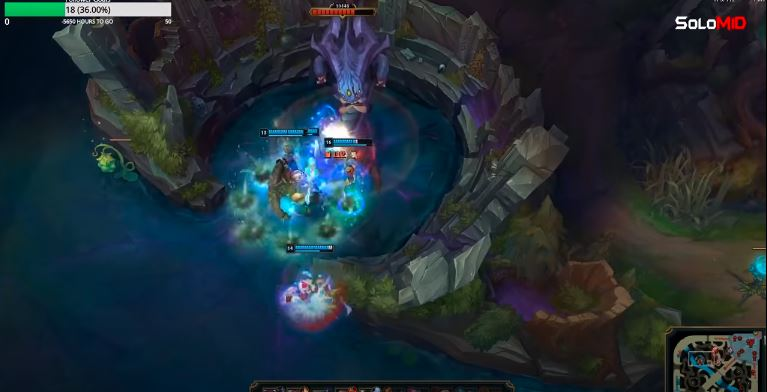bar: (284, 242, 336, 254), (324, 137, 375, 149), (258, 127, 308, 139), (272, 128, 321, 139)
